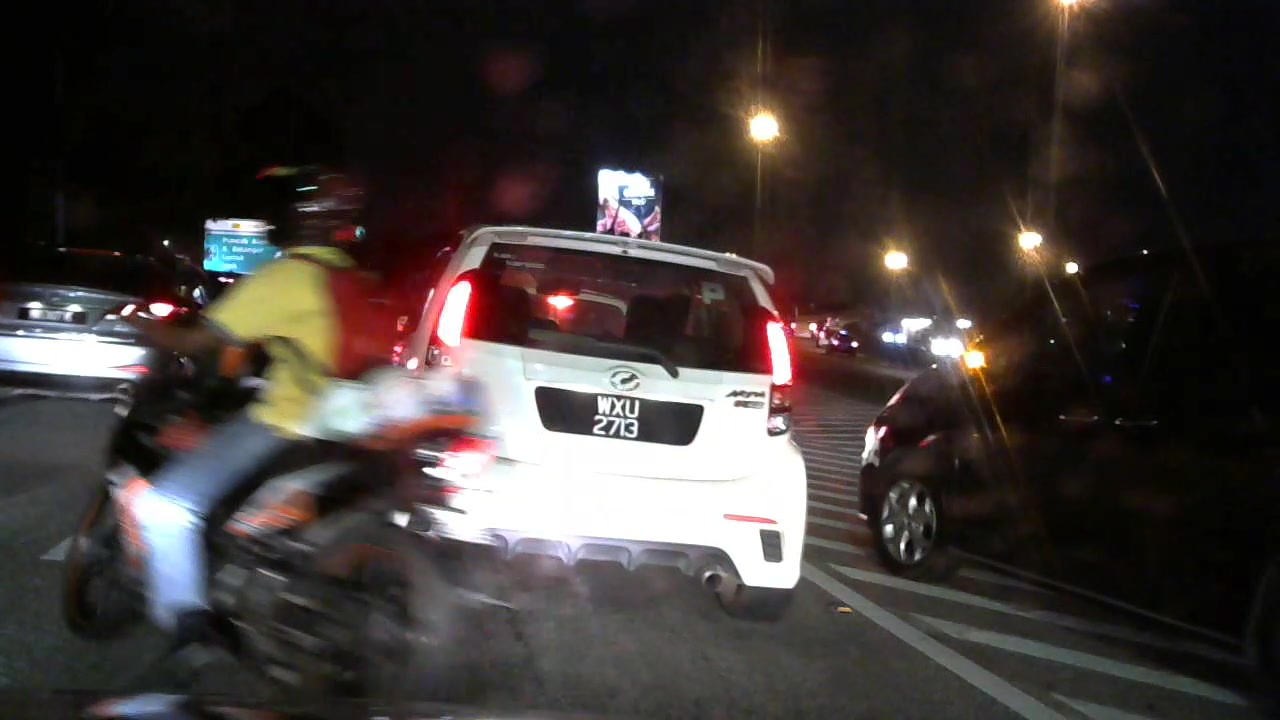Car: (852, 222, 1280, 698), (402, 196, 816, 621), (1, 215, 196, 398)
